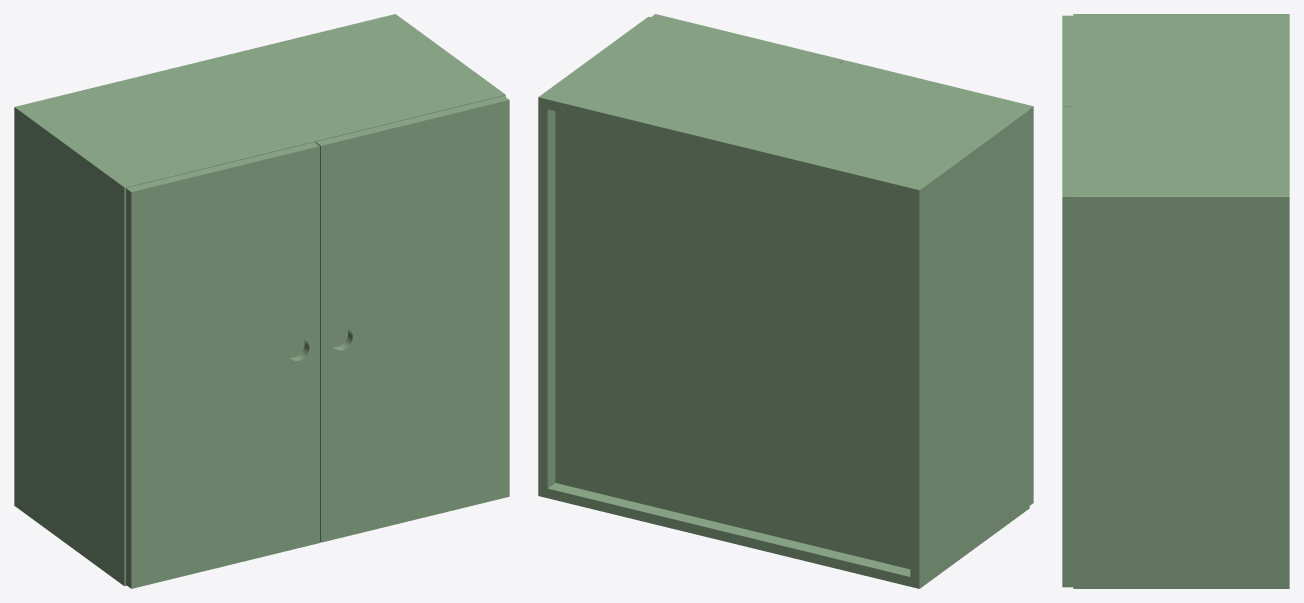
Rendered from MOD-2X2-DD-B-SA.glb.
The picture shows the model from 3 angles, left to right: view 1: azimuth 30°, elevation 25°; view 2: azimuth 150°, elevation 25°; view 3: azimuth 270°, elevation 25°; orthographic projection.
Size of the model in its own units: 720 by 720 by 378.
